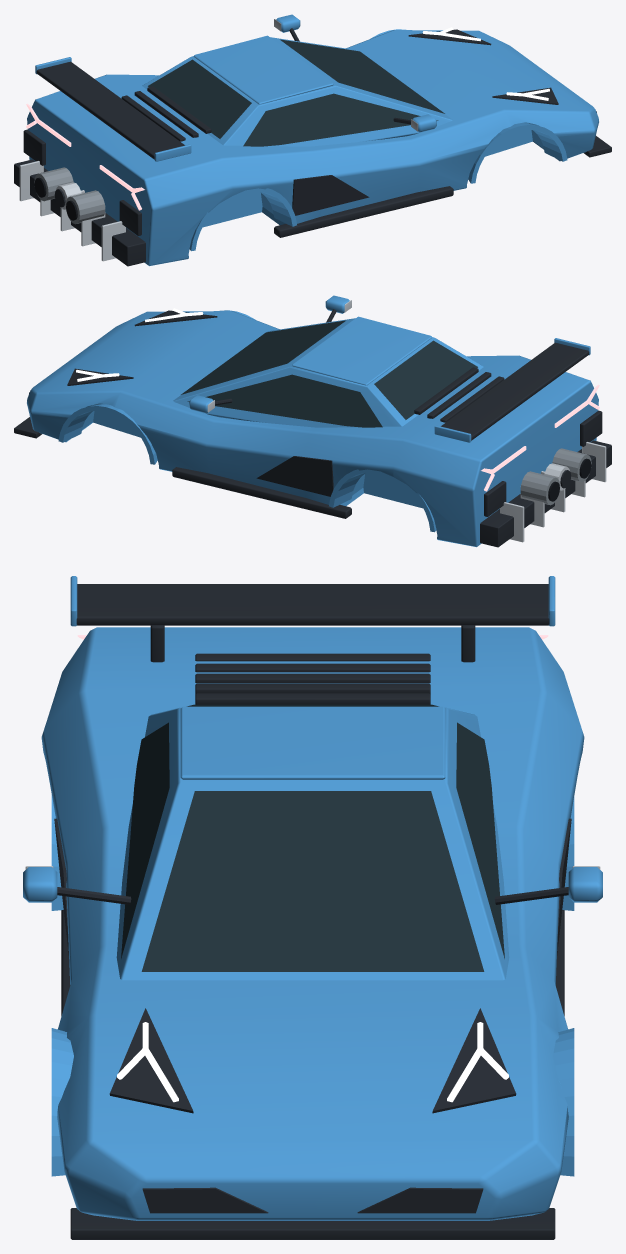
The model's file is lamborghini.glb.
3 renders of one model, top to bottom at view 1: azimuth 30°, elevation 25°; view 2: azimuth 150°, elevation 25°; view 3: azimuth 270°, elevation 25°, orthographic. The views are drawn at different scales.
Parts seen in each view (by area): view 1: body-paint, body-details; view 2: body-paint, body-details; view 3: body-paint, body-details.
Part boxes in pixels (bbox=[...]): body-paint: bbox=[27, 14, 598, 266]; body-details: bbox=[14, 19, 611, 266]; body-paint: bbox=[27, 295, 598, 547]; body-details: bbox=[14, 300, 611, 547]; body-paint: bbox=[23, 576, 602, 1220]; body-details: bbox=[25, 584, 600, 1239].
Bounding box in the file's own units: 1.54 × 0.3353 × 0.776.
